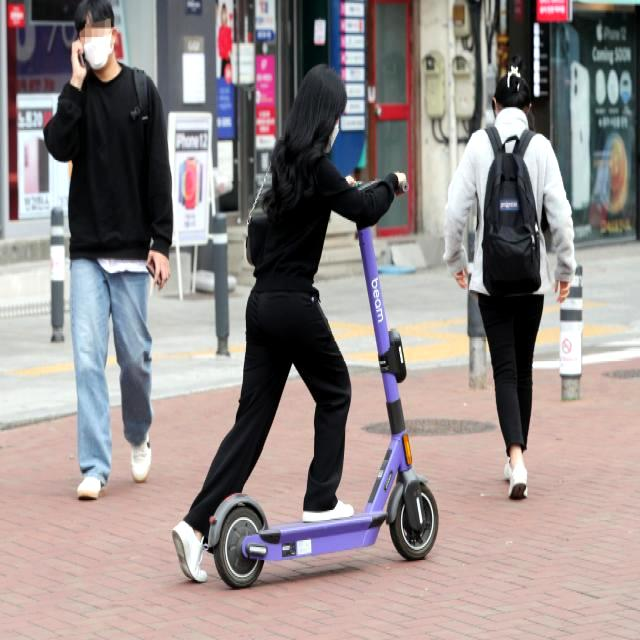bare_head: (273, 53, 365, 161)
human: (246, 67, 353, 516)
kickboard: (201, 483, 509, 576)
